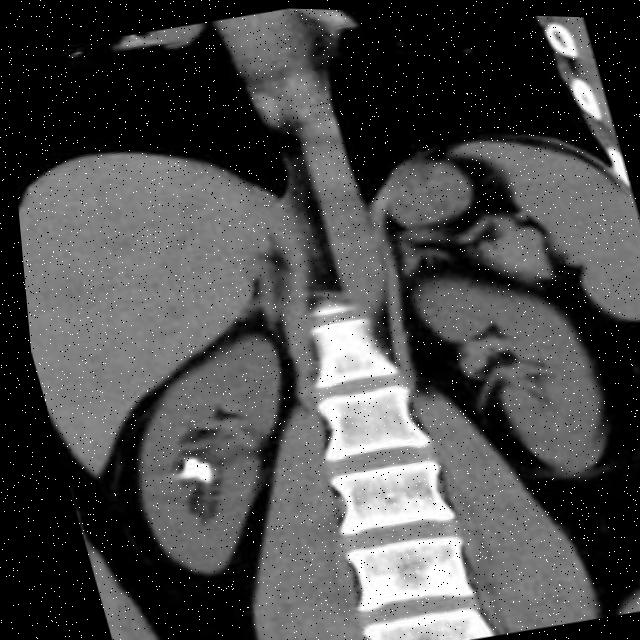Tas_Var: (165, 447, 217, 495)
